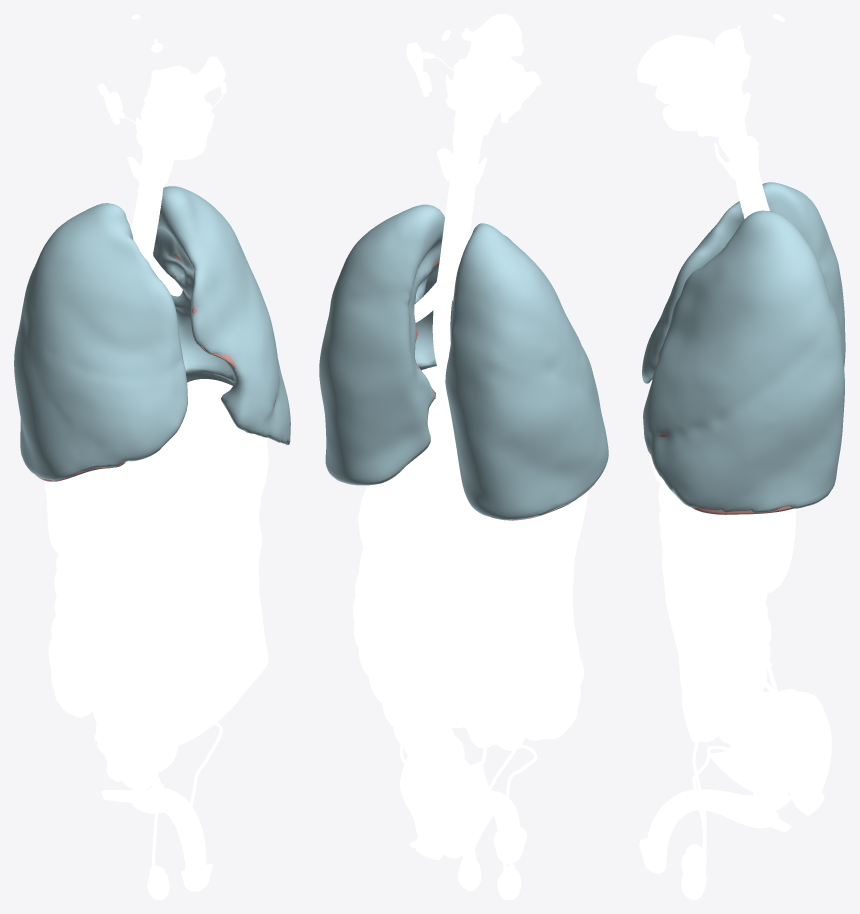
The model's file is visceral.glb.
3 views of the same model, side by side, from view 1: azimuth 30°, elevation 25°; view 2: azimuth 150°, elevation 25°; view 3: azimuth 270°, elevation 25° (orthographic). The views are drawn at different scales.
Parts seen in each view (by area): view 1: Pleura, Greater omentum, Liver, Ascending colon, Corpus cavernosum of penis, Stomach, Gingiva, Mucosa of nasal cavity, Urinary bladder, Trachea, Mucosa of stomach, Parotid gland.l (+4 smaller); view 2: Pleura, Jejunum, Ascending colon, Descending colon, Sigmoid colon, Liver, Kidney.l, Oesophagus, Kidney.r, Stomach, Oropharynx, Corpus cavernosum of penis (+20 smaller); view 3: Pleura, Greater omentum, Descending colon, Sigmoid colon, Corpus cavernosum of penis, Mucosa of nasal cavity, Kidney.l, Urinary bladder, Gingiva, Mesocolic taenia, Nasopharynx, Stomach (+13 smaller).
Part boxes in pixels (<box>): Pleura: <box>14,186,290,480</box>; Greater omentum: <box>65,493,268,747</box>; Liver: <box>44,379,260,556</box>; Ascending colon: <box>48,554,97,717</box>; Corpus cavernosum of penis: <box>101,777,206,869</box>; Stomach: <box>170,436,268,533</box>; Gingiva: <box>135,101,211,159</box>; Mucosa of nasal cavity: <box>159,65,210,128</box>; Urinary bladder: <box>102,731,177,775</box>; Trachea: <box>133,184,163,260</box>; Mucosa of stomach: <box>227,461,263,509</box>; Parotid gland.l: <box>191,56,225,96</box>; Pleura: <box>319,204,608,520</box>; Jejunum: <box>391,527,542,750</box>; Ascending colon: <box>518,564,583,738</box>; Descending colon: <box>354,548,464,775</box>; Sigmoid colon: <box>400,727,464,859</box>; Liver: <box>421,366,588,573</box>; Kidney.l: <box>358,482,418,574</box>; Oesophagus: <box>432,165,469,437</box>; Kidney.r: <box>486,522,535,616</box>; Stomach: <box>407,413,462,483</box>; Oropharynx: <box>451,71,520,129</box>; Corpus cavernosum of penis: <box>409,790,520,862</box>; Pleura: <box>642,182,845,513</box>; Greater omentum: <box>659,511,728,743</box>; Descending colon: <box>715,530,796,755</box>; Sigmoid colon: <box>788,691,831,815</box>; Corpus cavernosum of penis: <box>646,789,791,854</box>; Mucosa of nasal cavity: <box>637,35,706,86</box>; Kidney.l: <box>755,508,795,593</box>; Urinary bladder: <box>710,748,798,794</box>; Gingiva: <box>655,82,718,131</box>; Mesocolic taenia: <box>720,536,795,739</box>; Nasopharynx: <box>705,39,743,89</box>; Stomach: <box>658,482,740,537</box>.
Bounding box in the file's own units: 0.2634 × 0.8931 × 0.1926.
